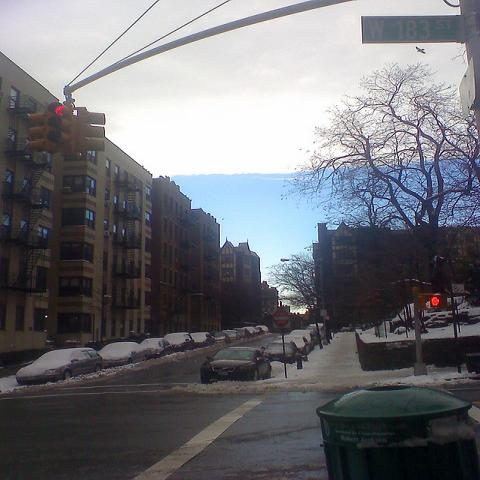car: (14, 348, 108, 386), (200, 346, 273, 383), (97, 342, 150, 366), (262, 338, 298, 364), (138, 338, 178, 359), (279, 335, 314, 355), (164, 332, 195, 352), (289, 330, 320, 346), (189, 332, 215, 348), (222, 330, 243, 342), (213, 331, 231, 344), (243, 327, 261, 337), (234, 329, 250, 338)
